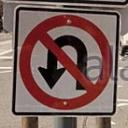NoVirarU: (17, 9, 120, 112)
